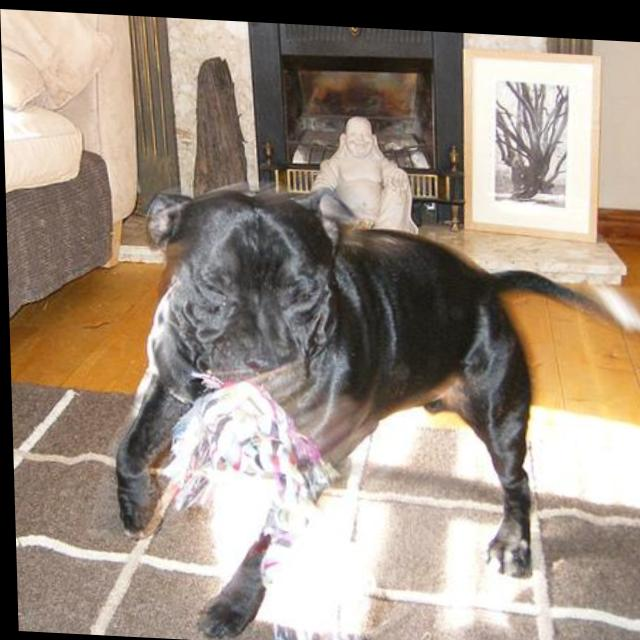staffford: (106, 177, 640, 640)
